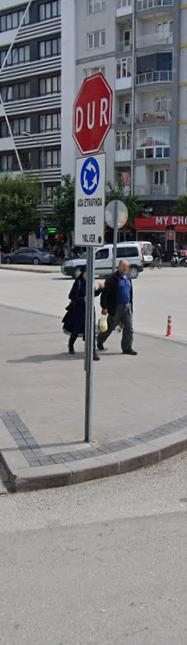crossroads: (80, 157, 101, 194)
stop: (73, 76, 112, 151)
